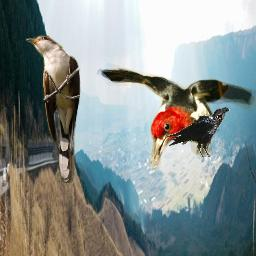Crow: (165, 107, 230, 157)
Cuckoo: (26, 35, 81, 183)
Woodpecker: (91, 59, 256, 172)
